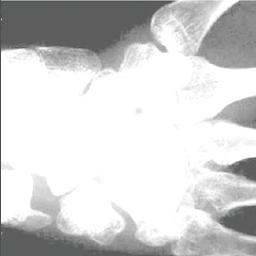cancer: (122, 169, 196, 248)
